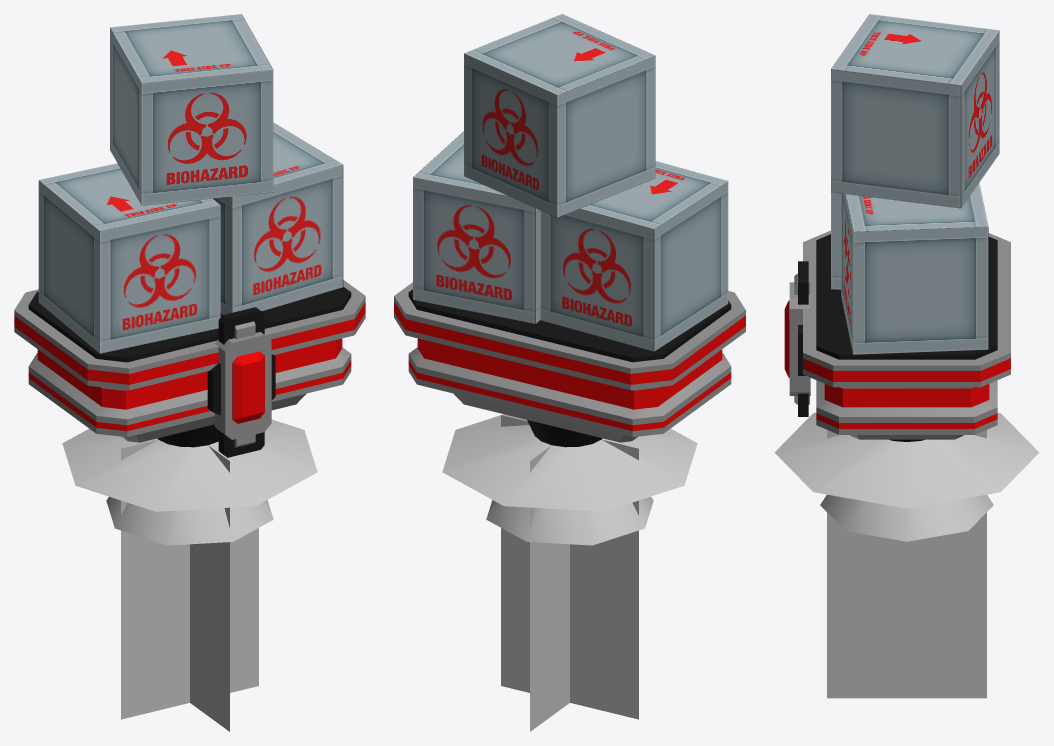
Rendered from Plataforma.FBX.
The picture shows the model from 3 angles, left to right: view 1: azimuth 30°, elevation 25°; view 2: azimuth 150°, elevation 25°; view 3: azimuth 270°, elevation 25°; orthographic projection.
Parts seen in each view (by area): view 1: Plataforma_Fuego, Plataforma, Box021, Box020, Box019; view 2: Plataforma_Fuego, Plataforma, Box021, Box020, Box019; view 3: Plataforma_Fuego, Box021, Plataforma, Box019, Box020.
Part boxes in pixels (left/top/right/bottom): Plataforma_Fuego: left=62, top=419, right=317, bottom=731; Plataforma: left=14, top=280, right=365, bottom=457; Box021: left=110, top=14, right=273, bottom=205; Box020: left=38, top=163, right=220, bottom=353; Box019: left=213, top=122, right=343, bottom=314; Plataforma_Fuego: left=442, top=414, right=697, bottom=731; Plataforma: left=394, top=282, right=745, bottom=447; Box021: left=464, top=14, right=655, bottom=217; Box020: left=540, top=161, right=728, bottom=351; Box019: left=413, top=131, right=540, bottom=323; Plataforma_Fuego: left=774, top=412, right=1039, bottom=698; Box021: left=831, top=14, right=999, bottom=208; Plataforma: left=784, top=230, right=1010, bottom=441; Box019: left=841, top=183, right=988, bottom=354; Box020: left=831, top=192, right=841, bottom=289.
Bounding box in the file's own units: 427 × 952 × 351.
